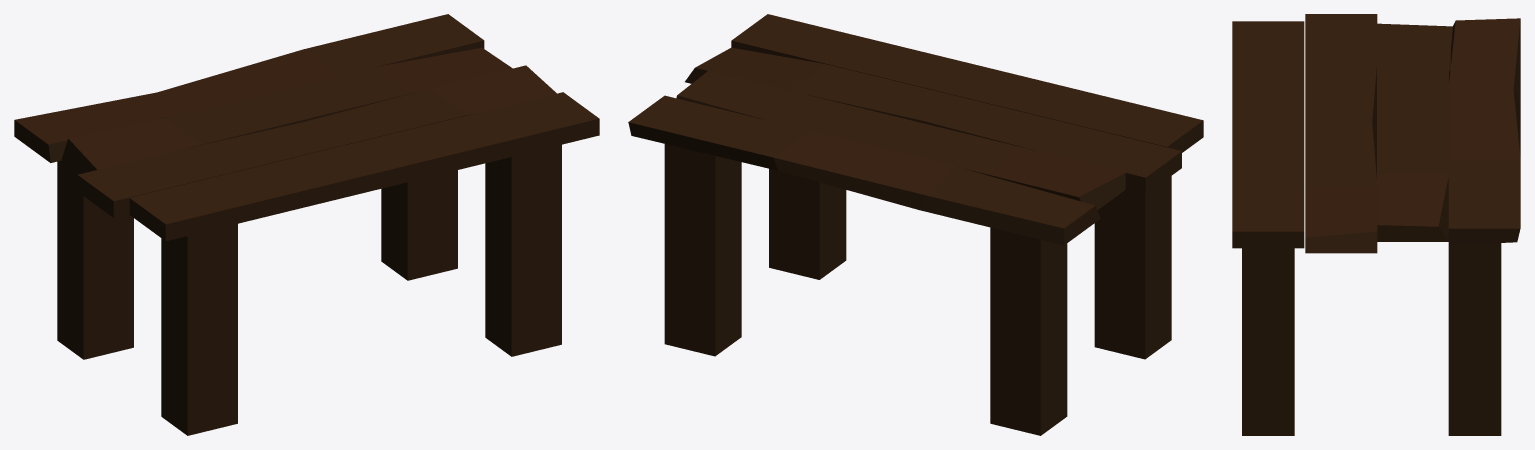
File: table_type_02.fbx
The picture shows the model from 3 angles, left to right: view 1: azimuth 30°, elevation 25°; view 2: azimuth 150°, elevation 25°; view 3: azimuth 270°, elevation 25°; orthographic projection.
Visible parts, largest first — view 1: table_type_02; view 2: table_type_02; view 3: table_type_02.
Part boxes in pixels (bbox=[...]): table_type_02: bbox=[14, 14, 599, 435]; table_type_02: bbox=[628, 14, 1203, 435]; table_type_02: bbox=[1232, 14, 1520, 435].
Size of the model in its own units: 103 by 47.98 by 56.5.
